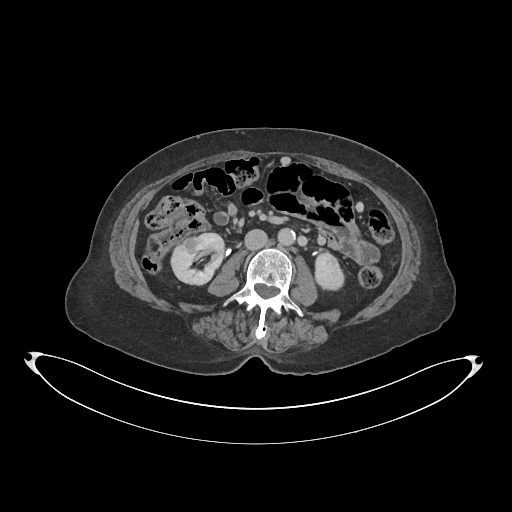Lesion: (181, 236, 202, 256)
